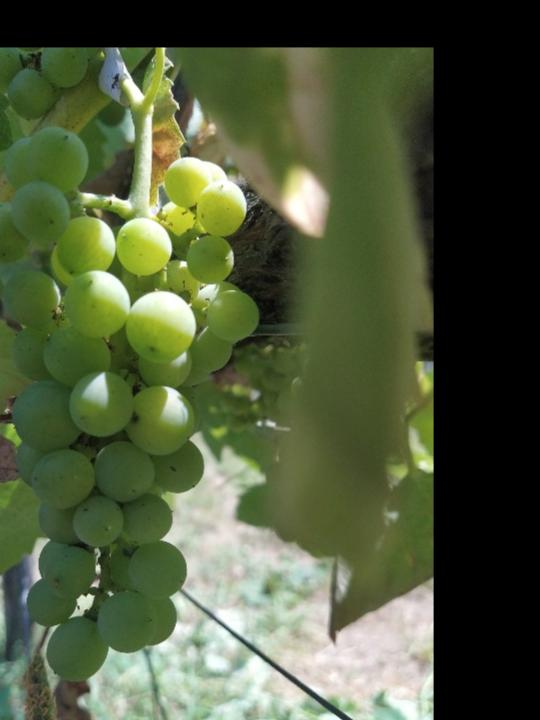grape: (0, 123, 267, 685)
